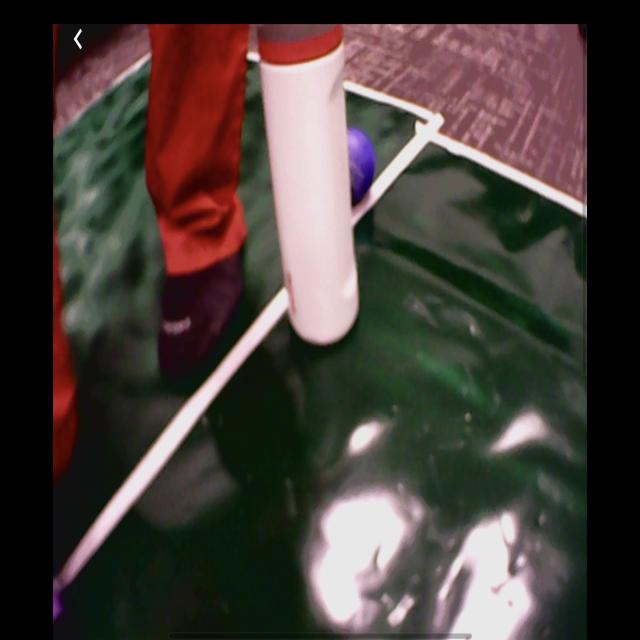ball: (348, 129, 375, 210)
